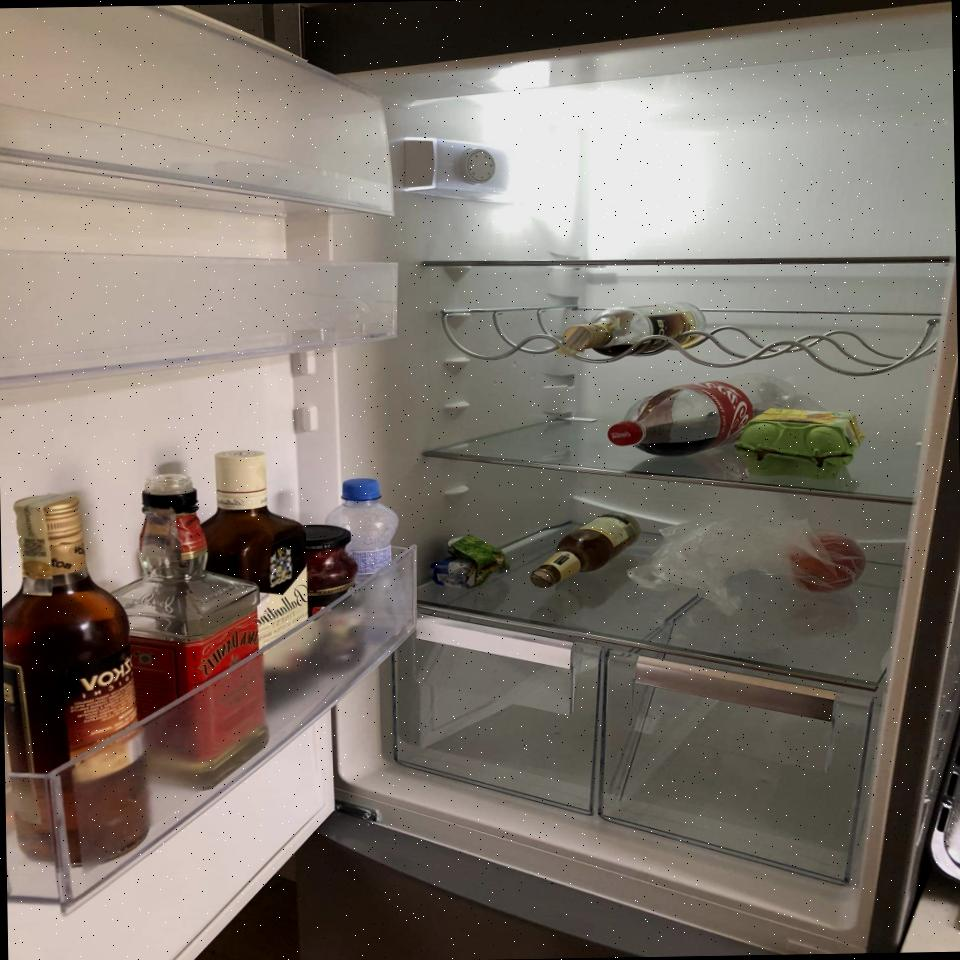Huevos: (732, 406, 867, 482)
Mantequilla: (429, 534, 510, 590)
Tomate: (790, 532, 868, 592)
